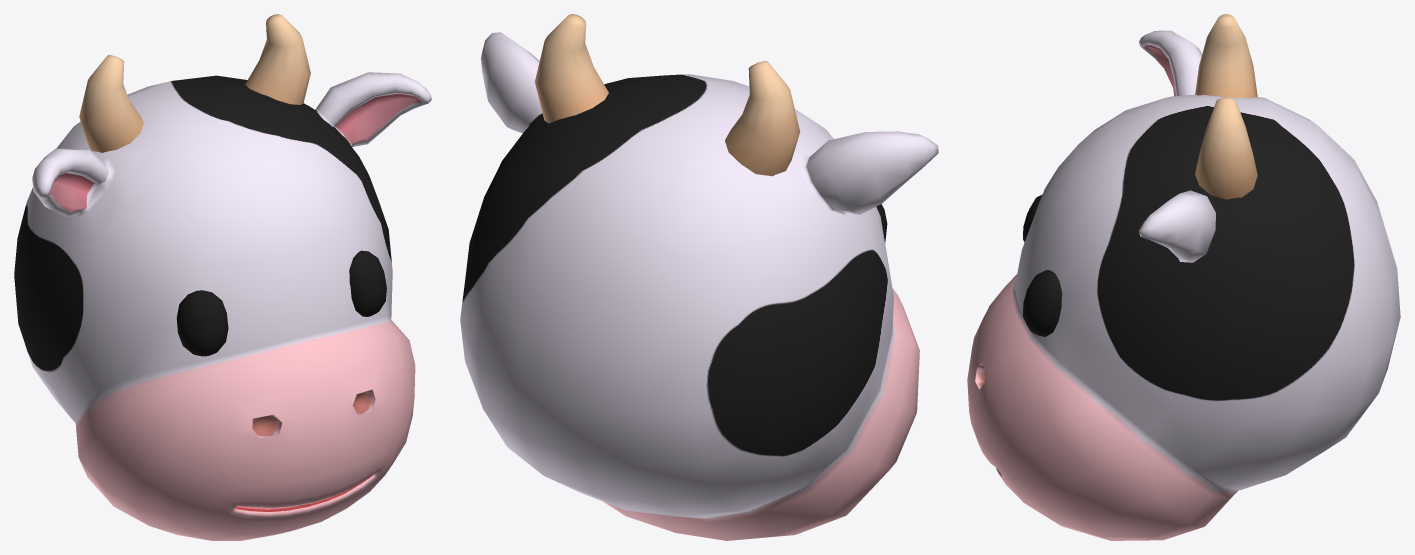
The model's file is Cow.fbx.
The picture shows the model from 3 angles, left to right: view 1: azimuth 30°, elevation 25°; view 2: azimuth 150°, elevation 25°; view 3: azimuth 270°, elevation 25°; orthographic projection. The views are drawn at different scales.
Visible parts, largest first — view 1: Cow; view 2: Cow; view 3: Cow.
Boxes of the visible parts, x1,y1,x2,y2 form: Cow: (14, 14, 431, 540); Cow: (460, 14, 938, 540); Cow: (967, 14, 1400, 540).
Size of the model in its own units: 46.85 by 51.63 by 44.12.
